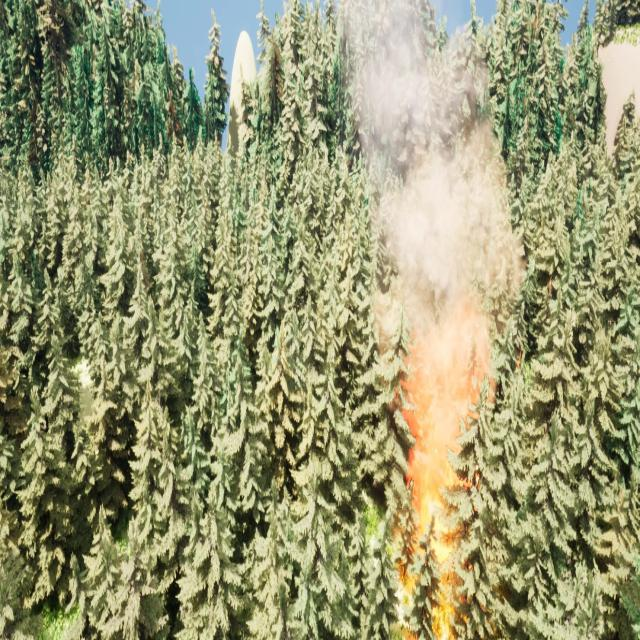fire: (414, 445, 463, 639)
smoke: (345, 0, 522, 438)
